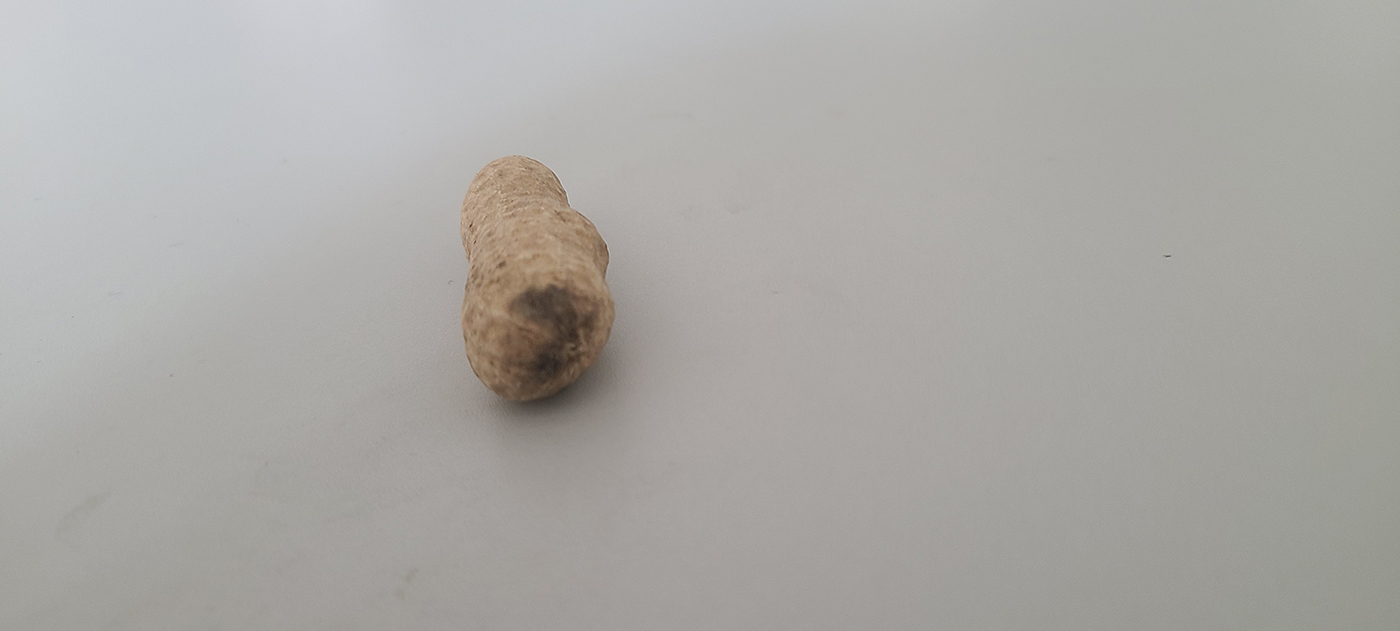h: (457, 151, 614, 406)
